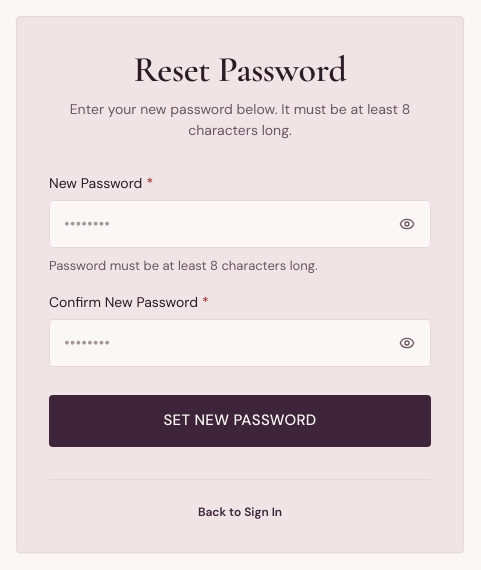
Test: FE-26: Forgot and reset password › Reset Password Page › confirms success with a link to login when password reset succeeds
The image size is (481, 570).
In the password field labelled "New Password*": (240, 224) [49, 200, 431, 248], type "BrandNewPassword123"
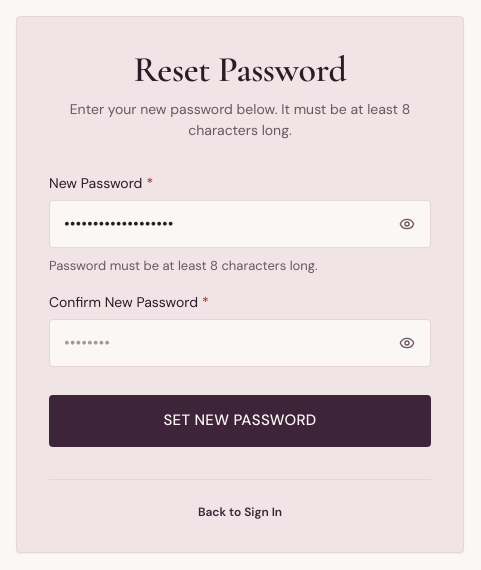
In the password field labelled "Confirm New Password*": (240, 343) [49, 319, 431, 367], type "BrandNewPassword123"
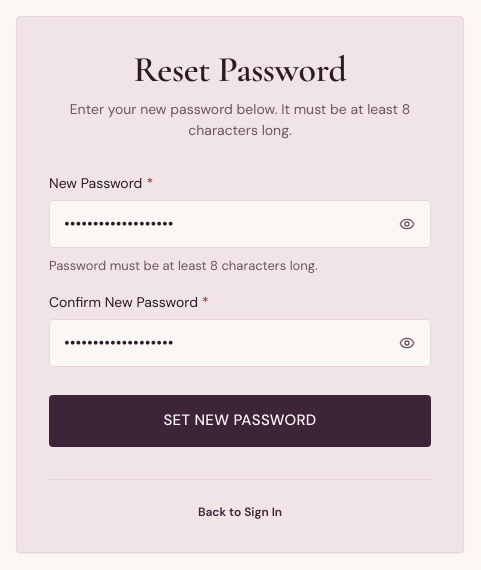
Click the button with test id "reset-password-submit-btn": (240, 421) [49, 395, 431, 447]
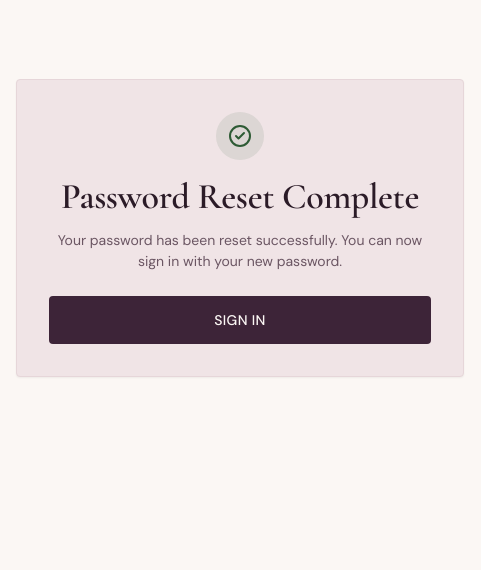
Result: the element with test id "reset-password-success" is shown at [49, 112, 431, 344]
Result: the heading "Password Reset Complete" is shown at [49, 176, 431, 218]
